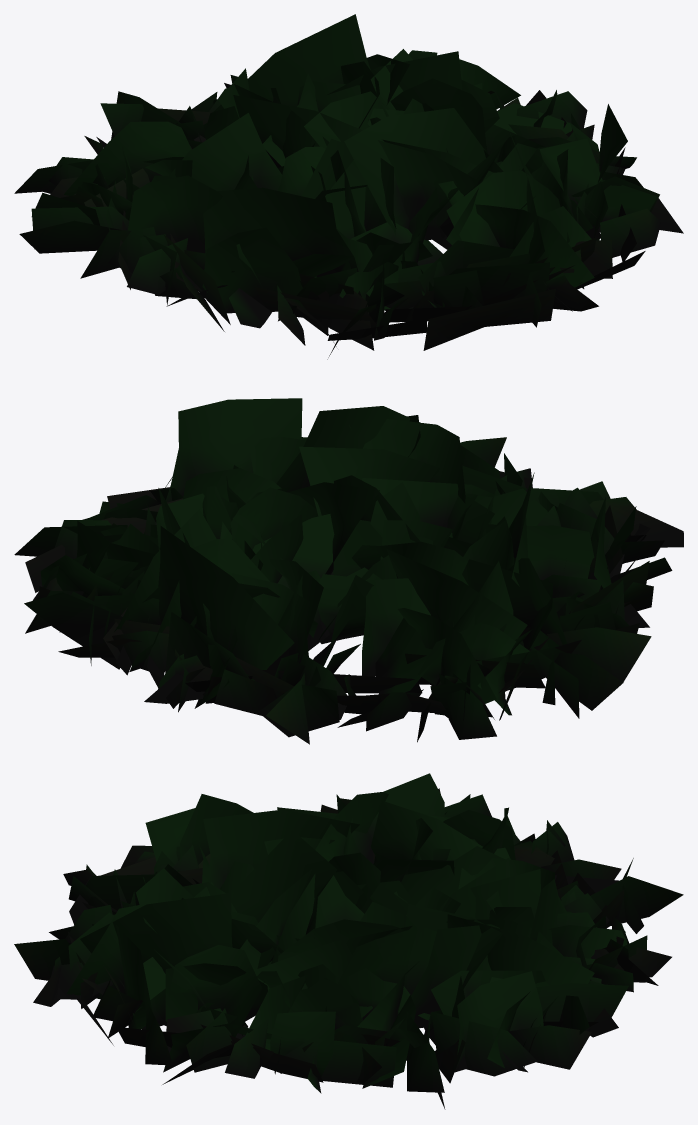
File: GrassMedium_F.fbx
3 views of the same model, one above another, from view 1: azimuth 30°, elevation 25°; view 2: azimuth 150°, elevation 25°; view 3: azimuth 270°, elevation 25° (orthographic). The views are drawn at different scales.
Visible parts, largest first — view 1: GrassMedium_F_LOD0; view 2: GrassMedium_F_LOD0; view 3: GrassMedium_F_LOD0.
Part boxes in pixels (left/top/right/bottom): GrassMedium_F_LOD0: left=14, top=14, right=683, bottom=359; GrassMedium_F_LOD0: left=14, top=398, right=683, bottom=744; GrassMedium_F_LOD0: left=14, top=773, right=683, bottom=1109.
Size of what is drawn, in the model's own units: 2.89 by 0.6569 by 2.85.
